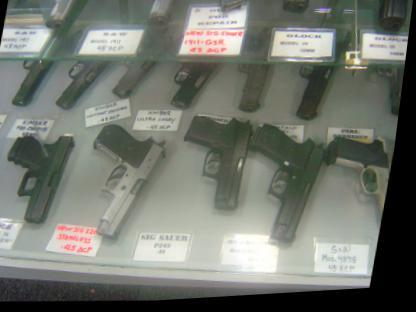pistol: (238, 121, 329, 259), (80, 119, 178, 244), (316, 130, 400, 233), (177, 115, 258, 214), (0, 130, 81, 224), (208, 26, 284, 114), (160, 24, 231, 112), (54, 19, 119, 110), (108, 15, 170, 100), (353, 0, 414, 42), (276, 0, 316, 24)
